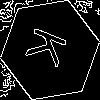K: (25, 25, 77, 72)
